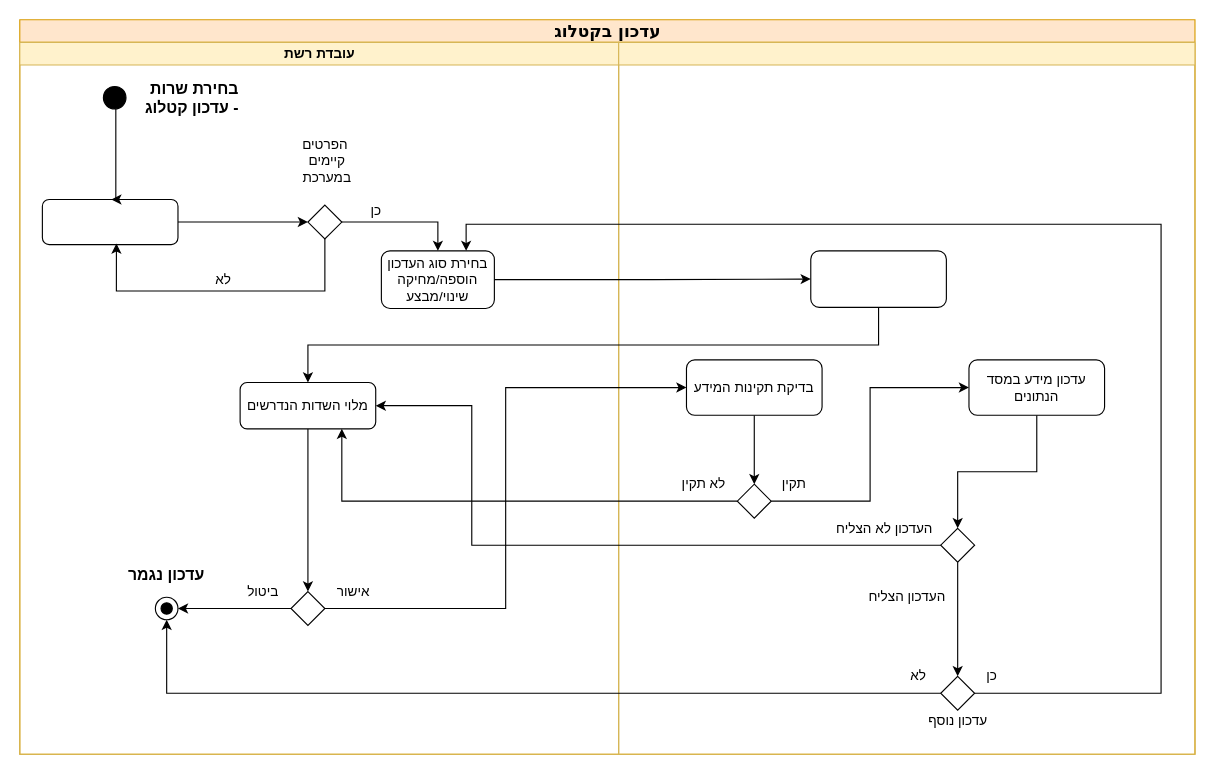
Some shapes in this 1215 by 774 pixel diagram are drawn without their labels. The box of each missing label's shape, as (x1, y1, x2, y2) in pixels:
SUC20:הזדהות במערכת: (41, 198, 178, 245)
הצגת החלון המתאים: (810, 250, 946, 307)
מערכת: (618, 41, 1195, 754)
